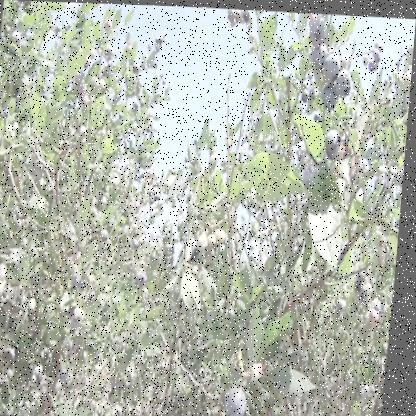mature: (229, 381, 258, 416)
